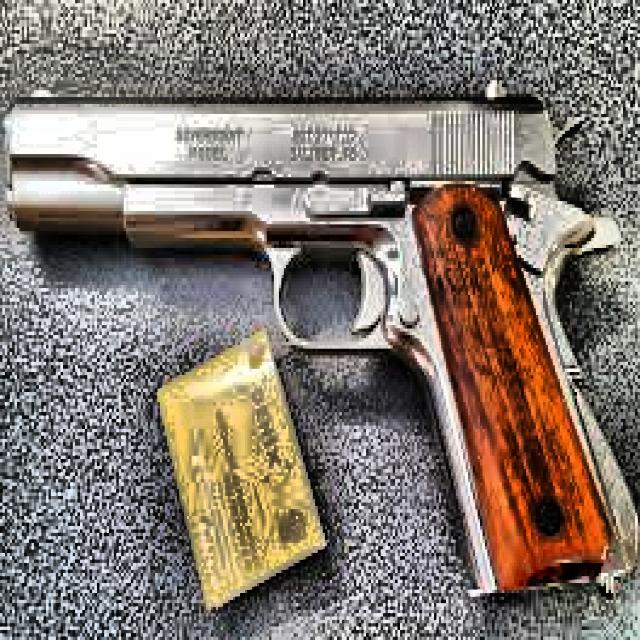Colt m1911: (0, 77, 638, 603)
